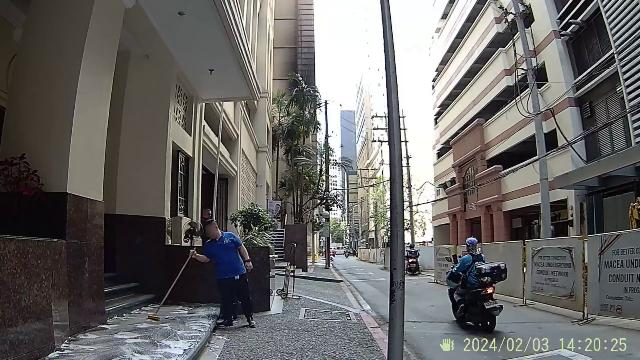construction_materials: (523, 227, 640, 324)
lamp_post: (382, 2, 412, 360)
motorcycle: (444, 258, 512, 330)
